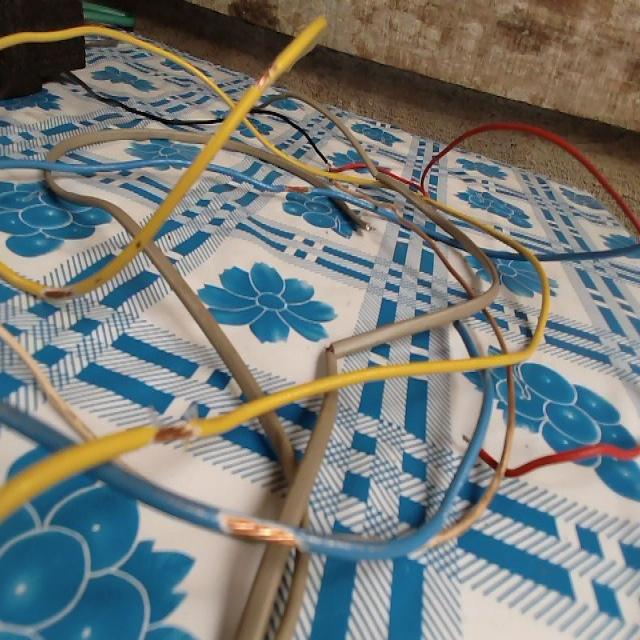-: (215, 508, 303, 552), (149, 419, 201, 448), (42, 282, 78, 302), (281, 181, 312, 199), (322, 336, 342, 359)
